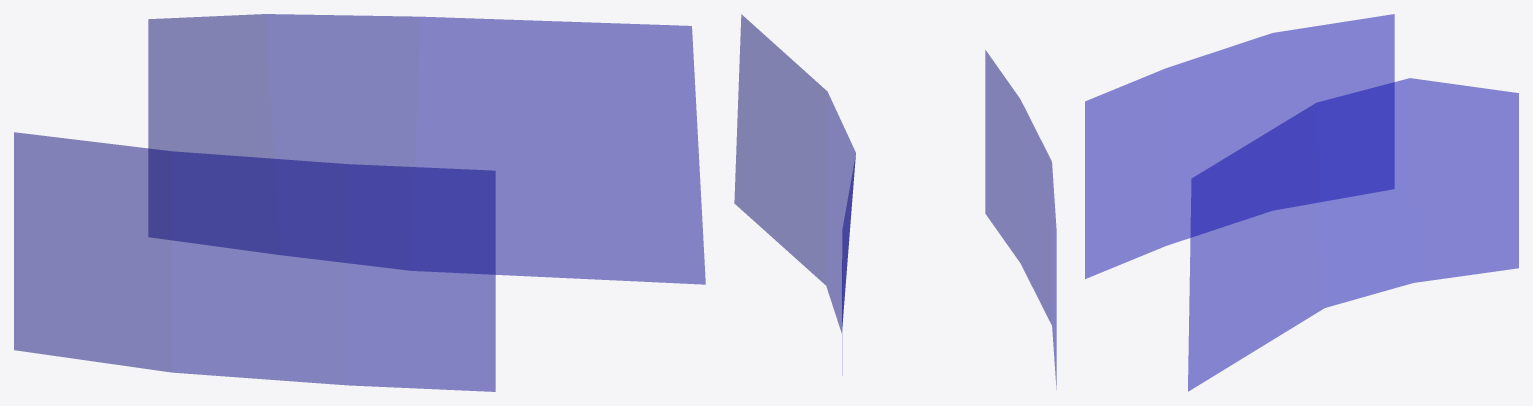
Rendered from track_military_coll_wall_25.fbx.
3 views of the same model, side by side, from view 1: azimuth 30°, elevation 25°; view 2: azimuth 150°, elevation 25°; view 3: azimuth 270°, elevation 25° (orthographic). The views are drawn at different scales.
Parts seen in each view (by area): view 1: track_military_coll_wall_25; view 2: track_military_coll_wall_25; view 3: track_military_coll_wall_25.
Boxes of the visible parts, <box> form: track_military_coll_wall_25: <box>14,14,705,391</box>; track_military_coll_wall_25: <box>734,14,1056,389</box>; track_military_coll_wall_25: <box>1085,14,1518,391</box>.
Size of the model in its own units: 86.13 by 41.25 by 71.54.
